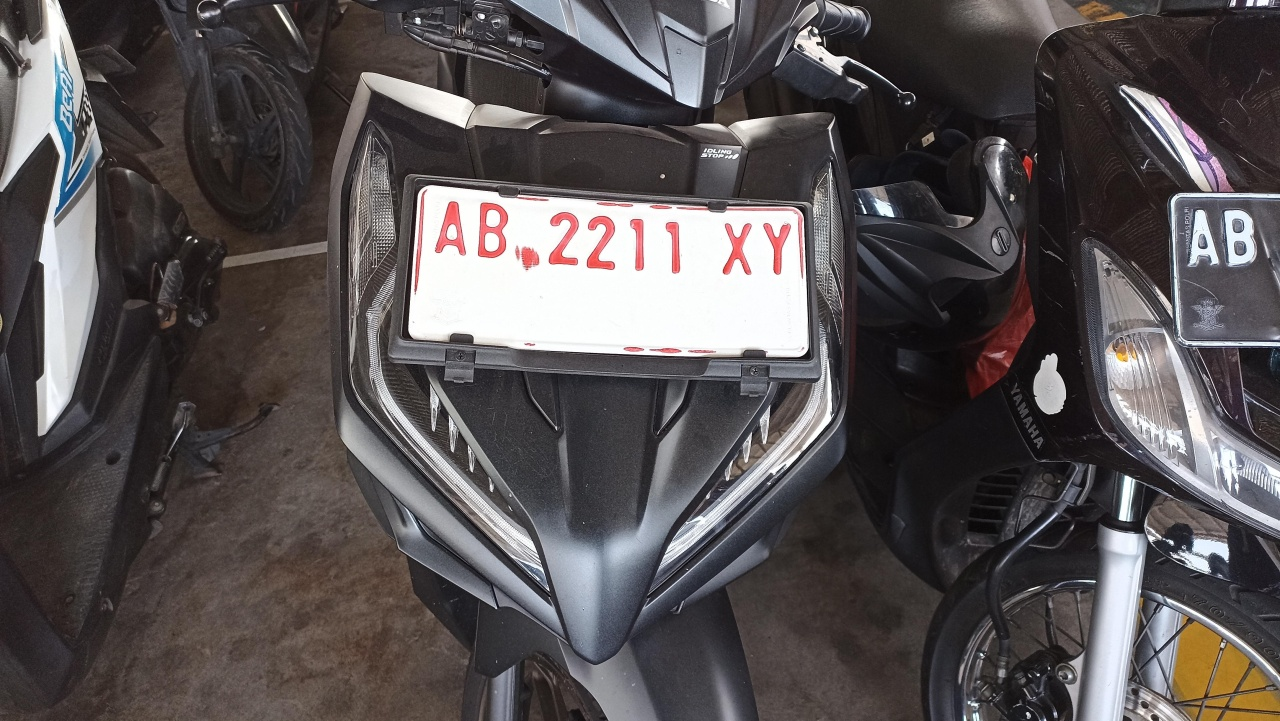plate: (394, 172, 823, 380)
